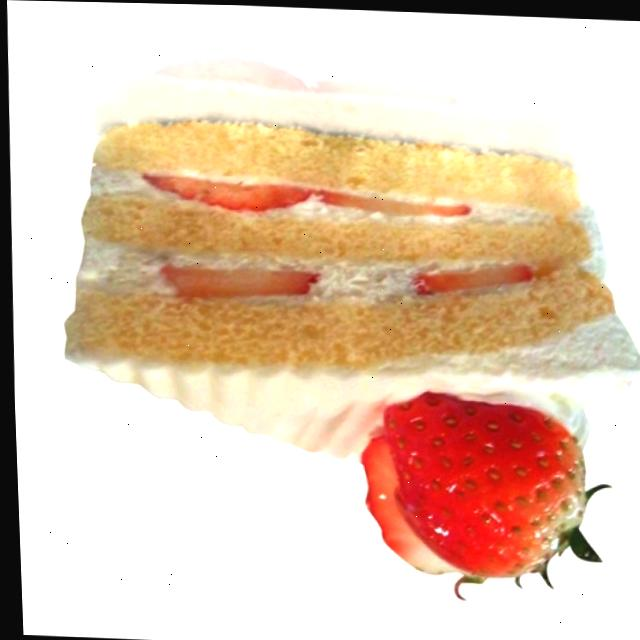蛋糕甜品: (17, 5, 640, 640)
